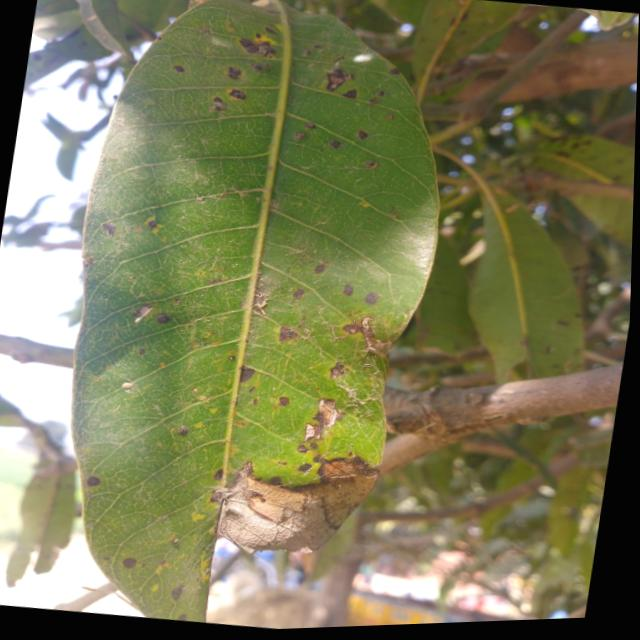Anthracnose: (209, 456, 380, 556), (341, 308, 398, 363), (306, 393, 345, 432), (237, 34, 277, 59), (322, 70, 350, 94), (129, 301, 154, 324), (326, 360, 348, 382), (277, 325, 299, 343), (303, 423, 321, 443), (227, 86, 247, 103), (168, 582, 185, 602), (209, 96, 227, 113), (362, 290, 379, 307), (239, 365, 254, 383), (227, 65, 242, 80), (100, 222, 116, 236), (312, 262, 327, 276), (86, 474, 101, 488), (228, 89, 247, 100), (154, 313, 171, 325), (354, 128, 368, 142), (80, 256, 95, 269), (119, 380, 134, 393), (263, 25, 278, 38), (362, 159, 378, 171), (122, 557, 136, 570), (212, 467, 224, 481), (146, 217, 159, 229), (342, 284, 354, 296), (172, 63, 185, 74), (277, 395, 290, 406), (298, 462, 311, 473), (555, 318, 569, 328), (291, 289, 304, 299), (342, 90, 356, 99), (300, 48, 311, 59), (177, 612, 187, 623), (268, 476, 280, 485), (292, 132, 305, 140), (206, 279, 223, 285), (375, 89, 385, 99), (176, 426, 187, 435), (328, 140, 339, 148), (250, 64, 262, 71), (138, 347, 146, 356), (389, 67, 399, 74), (296, 445, 306, 452), (304, 122, 315, 128), (385, 114, 393, 121), (312, 43, 320, 50), (368, 98, 377, 104), (227, 355, 234, 360)
